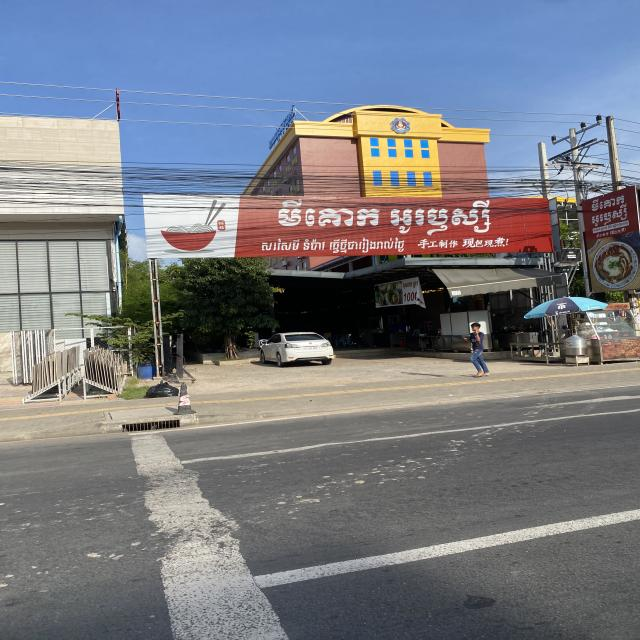1: (273, 197, 512, 236)
2: (253, 236, 410, 254)
534: (402, 291, 416, 303)
Yolov11_80vkh: (589, 202, 633, 227), (588, 192, 628, 213), (401, 280, 414, 290)
